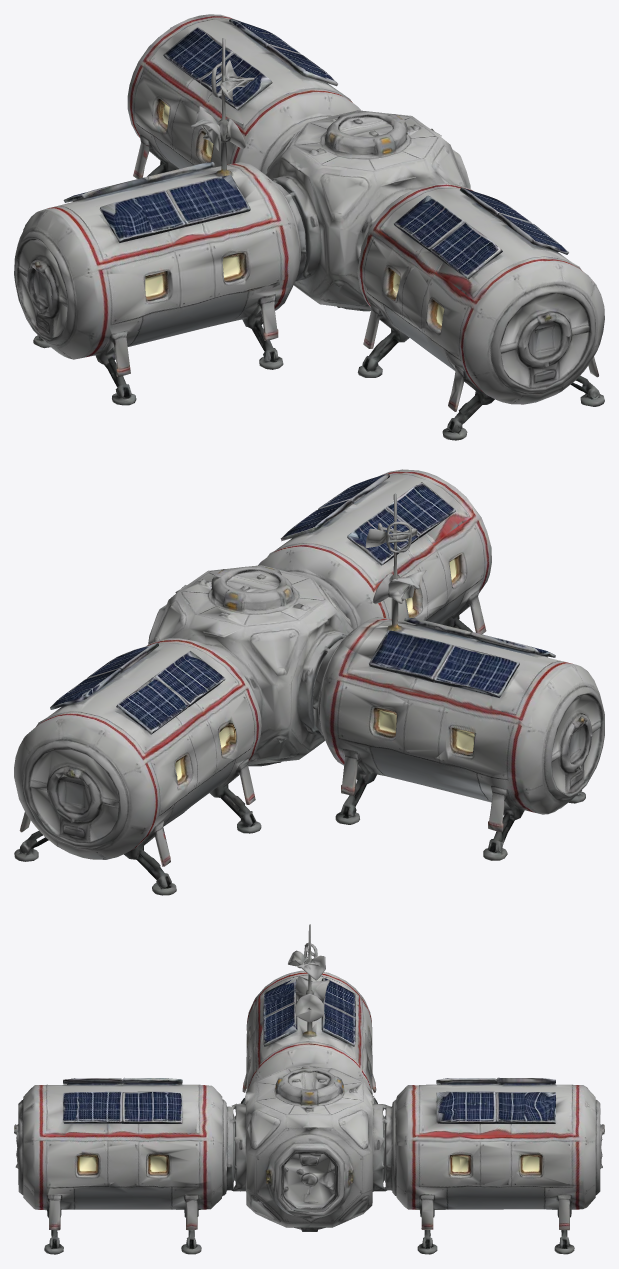
File: haven-habitat.glb
3 views of the same model, one above another, from view 1: azimuth 30°, elevation 25°; view 2: azimuth 150°, elevation 25°; view 3: azimuth 270°, elevation 25° (orthographic). The views are drawn at different scales.
Visible parts, largest first — view 1: tripo_node_de1afeea-ab9c-4ebd-b902-66d65b4796d6; view 2: tripo_node_de1afeea-ab9c-4ebd-b902-66d65b4796d6; view 3: tripo_node_de1afeea-ab9c-4ebd-b902-66d65b4796d6.
Boxes of the visible parts, x1,y1,x2,y2 form: tripo_node_de1afeea-ab9c-4ebd-b902-66d65b4796d6: [14, 14, 604, 440]; tripo_node_de1afeea-ab9c-4ebd-b902-66d65b4796d6: [14, 469, 604, 895]; tripo_node_de1afeea-ab9c-4ebd-b902-66d65b4796d6: [14, 924, 604, 1254].
Bounding box in the file's own units: 0.6571 × 0.4536 × 0.9996.
1 material, 1 textured.
